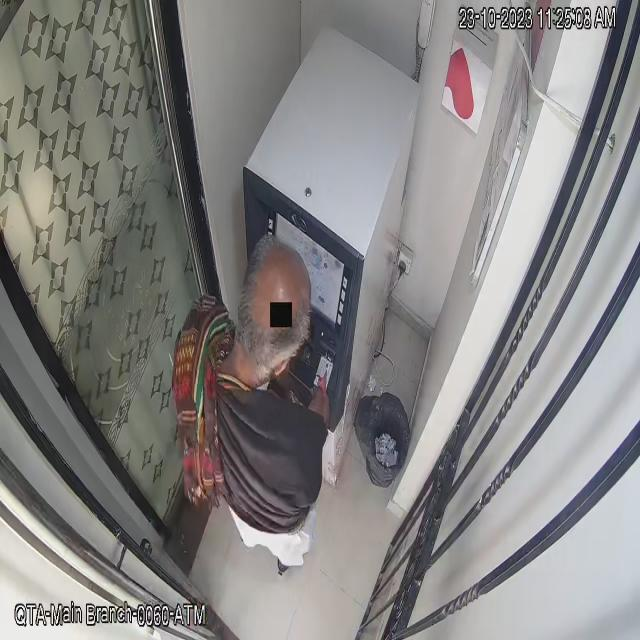atm-card: (311, 347, 336, 397)
